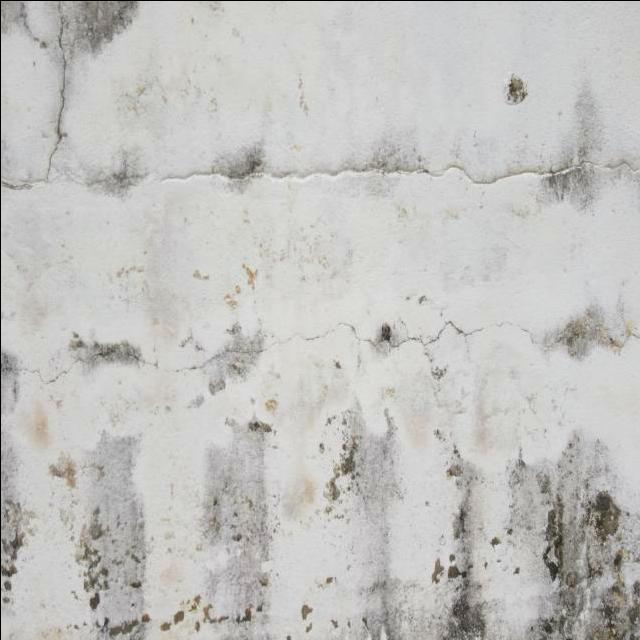SurfaceCrack: (0, 262, 639, 450), (0, 104, 638, 228)
